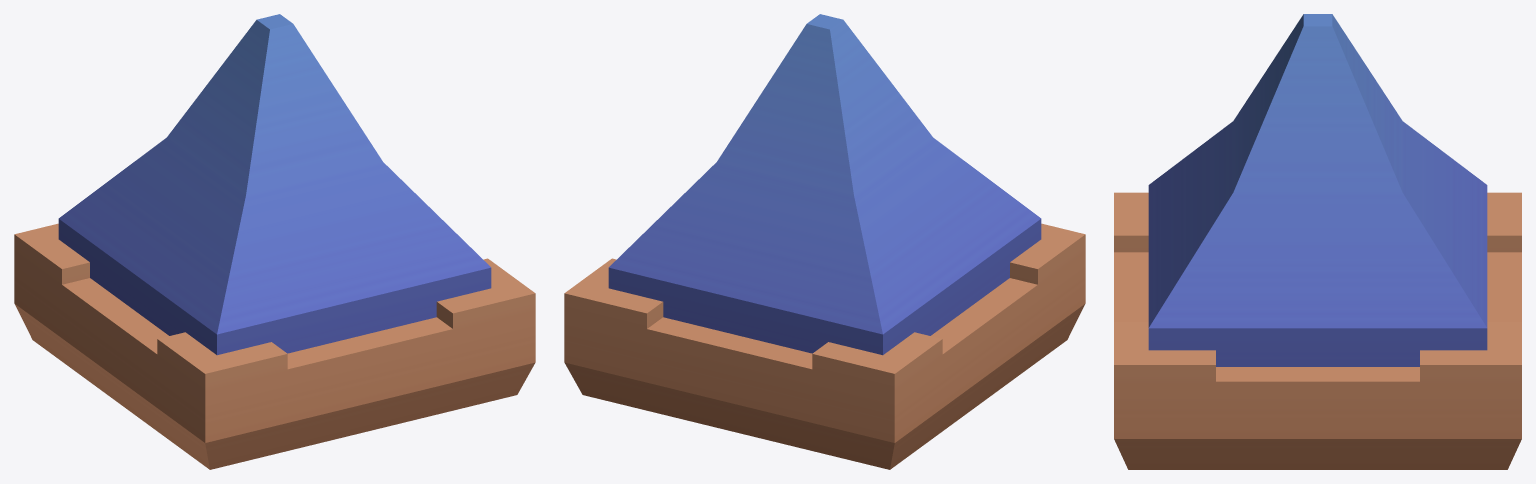
The model's file is tower-square-top-roof.obj.
3 renders of one model, left to right at view 1: azimuth 30°, elevation 25°; view 2: azimuth 150°, elevation 25°; view 3: azimuth 270°, elevation 25°, orthographic. The views are drawn at different scales.
Parts seen in each view (by area): view 1: tower-square-top-roof; view 2: tower-square-top-roof; view 3: tower-square-top-roof.
Boxes of the visible parts, box(x1,y1,x2,y2) form: tower-square-top-roof: box(14, 14, 535, 469); tower-square-top-roof: box(564, 14, 1085, 469); tower-square-top-roof: box(1114, 14, 1521, 469).
Size of the model in its own units: 1 by 1 by 1.
Materials: 1 (1 with a texture image).
